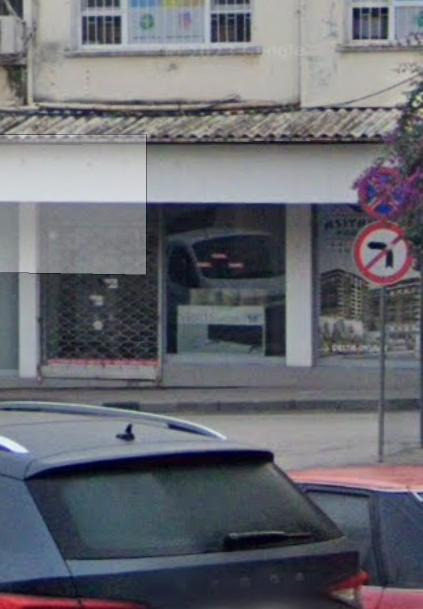leftturnsareforbidden: (355, 222, 412, 284)
